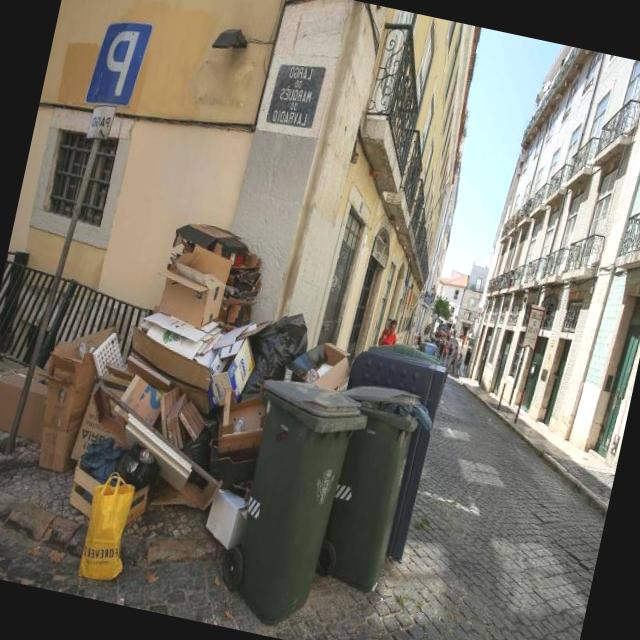garbage: (0, 185, 330, 632)
